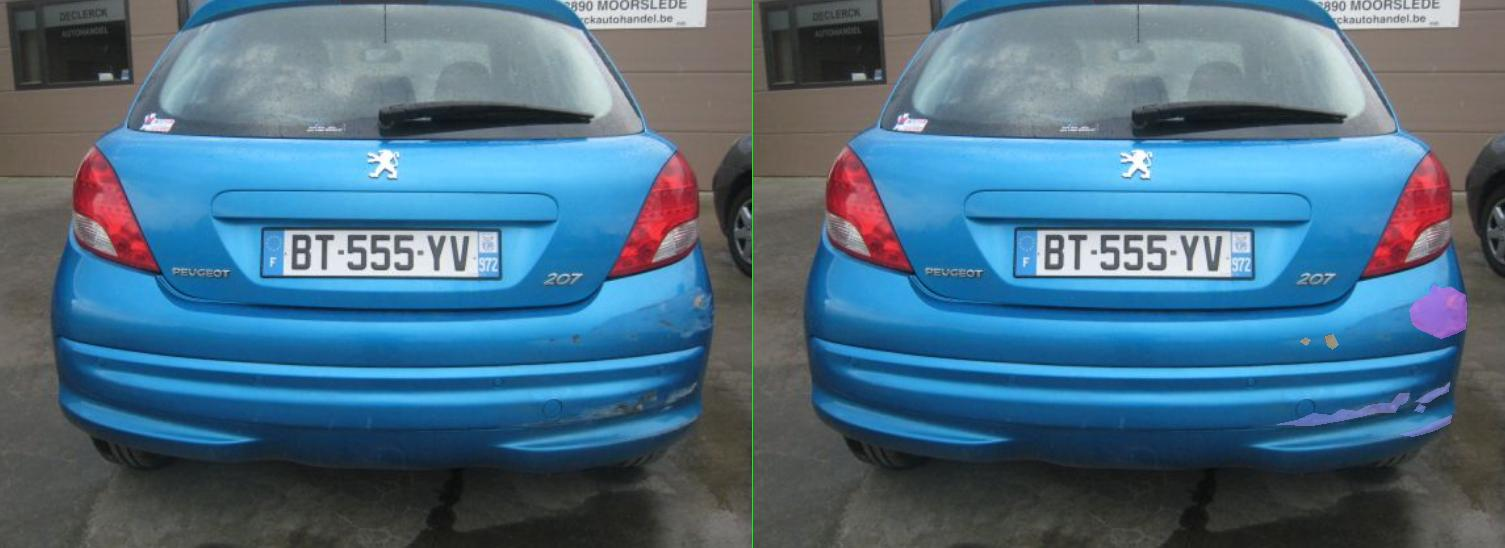Dent: (1313, 284, 1427, 338)
Paint chip: (1145, 334, 1171, 349), (1095, 337, 1115, 345)
Scratch: (1049, 393, 1313, 425), (1295, 415, 1397, 436), (1325, 382, 1393, 402), (1323, 404, 1345, 412)
